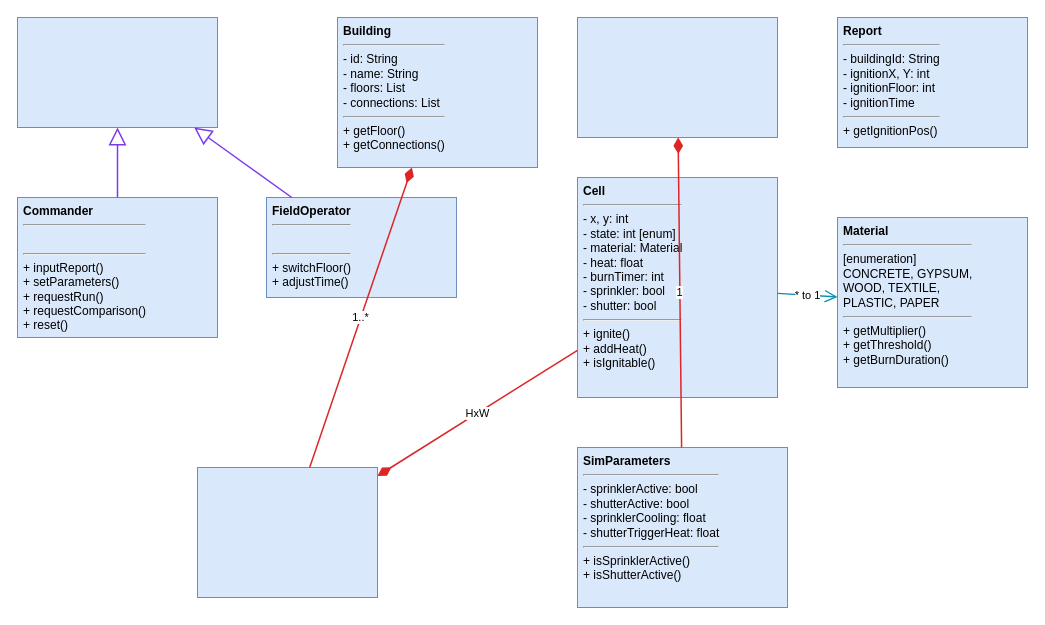
This 1045x625 diagram has some shape labels left out. The shapes that lost their labels are listed below. From the top down, each one's box as (x1, y1, x2, y2) in pixels, then its label:
(16, 16, 218, 128): User # name: String # role: Role + getName() + requestViewResult()
(576, 16, 778, 138): Scenario - id: String - parameters - result + getResult() + computeDelta()
(196, 466, 378, 598): Floor - floorId: String - cells [numpy] + getCell() + getGridSize()
